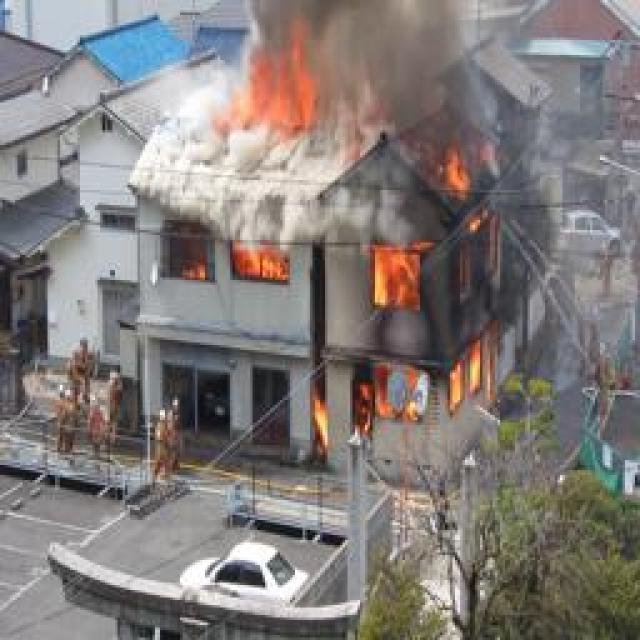Fire: (351, 142, 486, 427), (207, 27, 341, 135), (165, 241, 285, 283)
